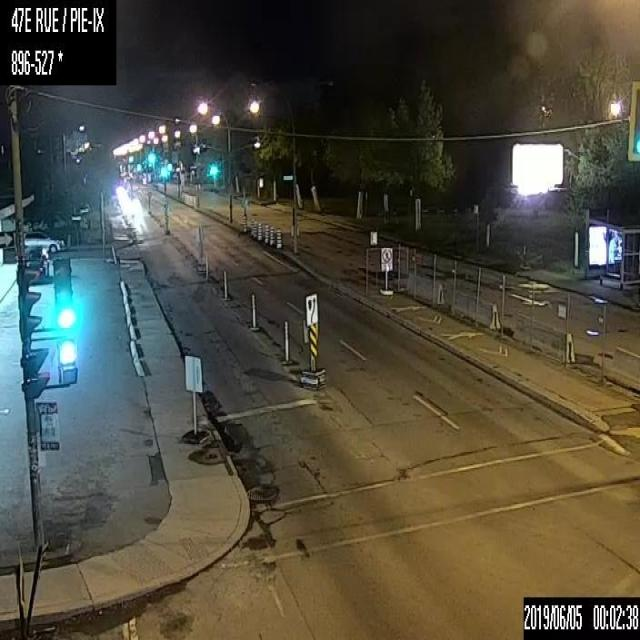construction: (251, 292, 255, 328), (256, 222, 263, 241), (275, 228, 282, 247), (262, 223, 269, 241), (284, 320, 287, 361), (250, 218, 256, 237), (269, 226, 275, 244), (204, 251, 208, 277), (241, 213, 246, 232), (222, 269, 225, 299)
vehicle: (24, 229, 64, 256)
